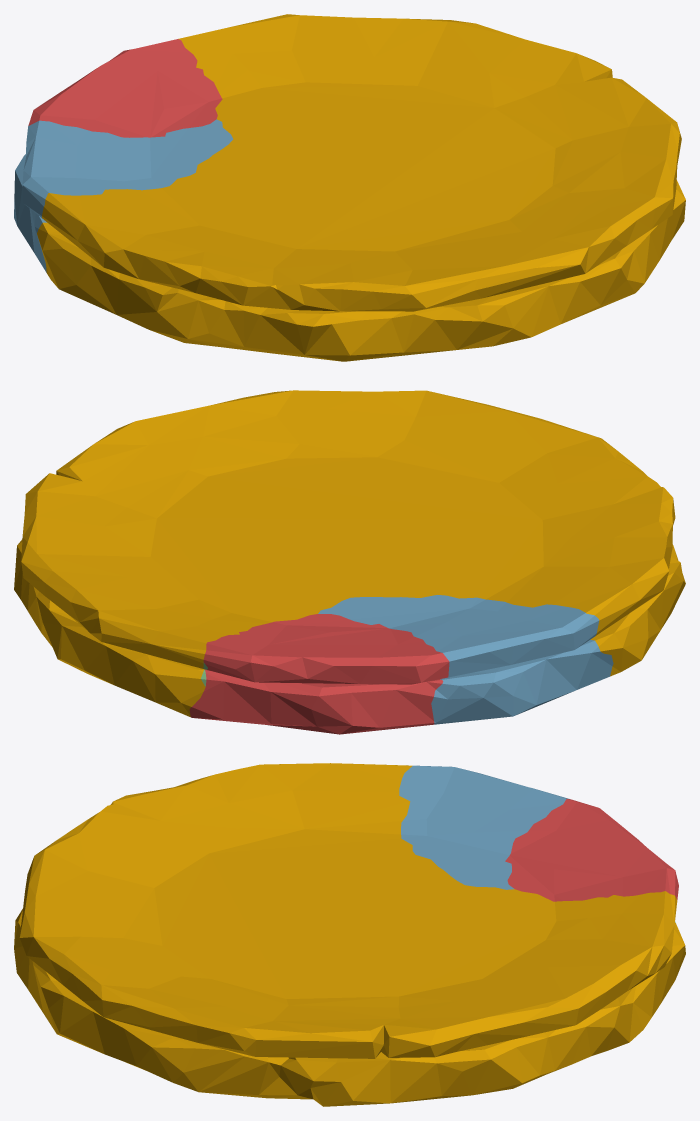
File: fractured_42_4pcs.glb
3 renders of one model, top to bottom at view 1: azimuth 30°, elevation 25°; view 2: azimuth 150°, elevation 25°; view 3: azimuth 270°, elevation 25°, orthographic.
Visible parts, largest first — view 1: piece_0.obj, piece_2.obj, piece_1.obj; view 2: piece_0.obj, piece_1.obj, piece_2.obj; view 3: piece_0.obj, piece_2.obj, piece_1.obj.
Part boxes in pixels (x1,y1,x2,y2): piece_0.obj: (37,14,685,361); piece_2.obj: (14,119,233,272); piece_1.obj: (28,39,222,137); piece_0.obj: (14,390,685,717); piece_1.obj: (189,614,449,734); piece_2.obj: (318,595,613,724); piece_0.obj: (14,763,685,1106); piece_2.obj: (399,765,568,889); piece_1.obj: (505,799,678,901).
Bounding box in the file's own units: 1 × 0.1467 × 0.9969.
